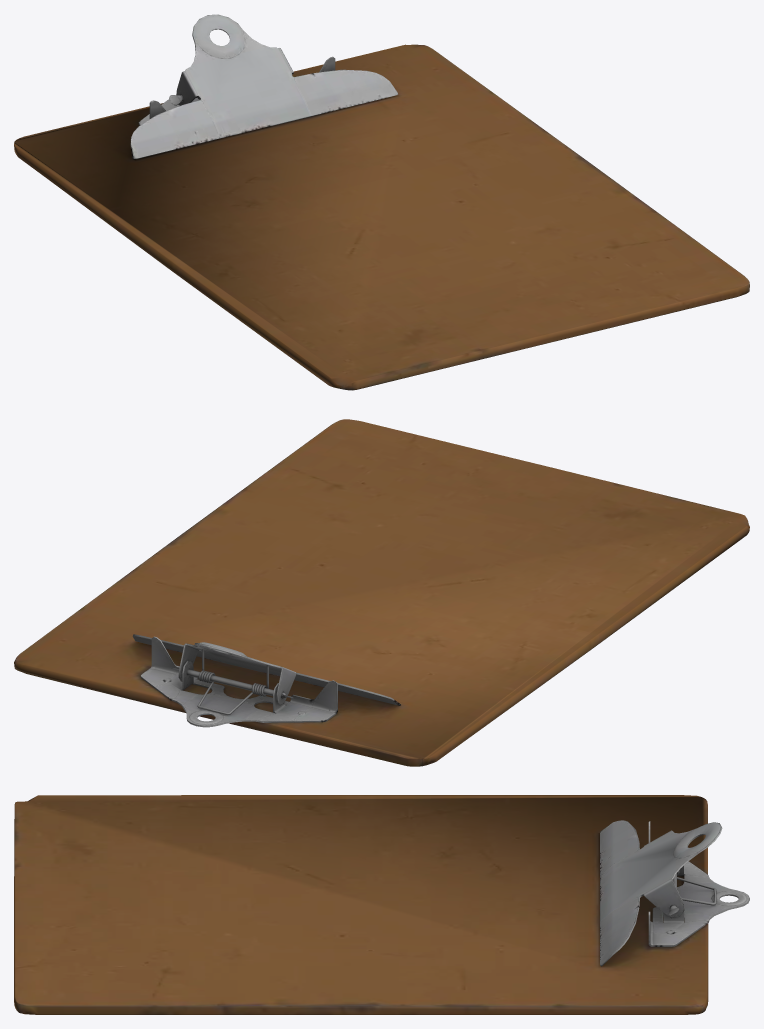
Rendered from clipboard.glb.
3 renders of one model, top to bottom at view 1: azimuth 30°, elevation 25°; view 2: azimuth 150°, elevation 25°; view 3: azimuth 270°, elevation 25°, orthographic. The views are drawn at different scales.
Visible parts, largest first — view 1: clipboard; view 2: clipboard; view 3: clipboard.
Boxes of the visible parts, x1,y1,x2,y2 form: clipboard: (14, 14, 749, 390); clipboard: (14, 419, 749, 766); clipboard: (14, 795, 749, 1014).
Size of the model in its own units: 0.2285 by 0.042 by 0.3366.
Materials: 1 (1 with a texture image).
